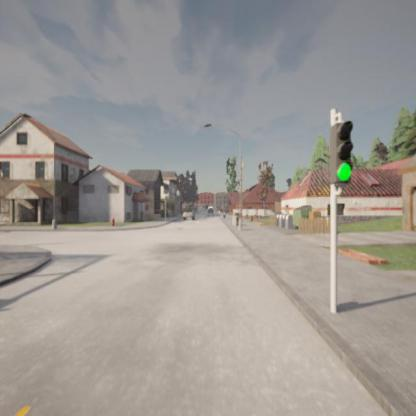traffic_light_green: (332, 121, 355, 186)
